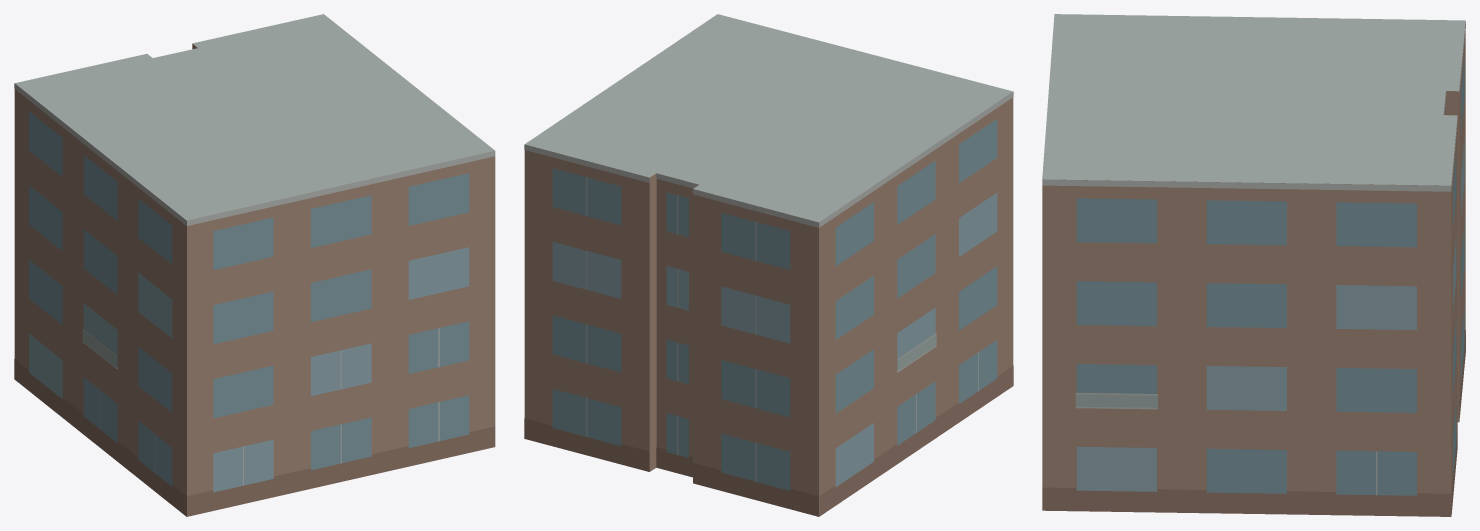
File: survey-upis-32655670.glb
The picture shows the model from 3 angles, left to right: view 1: azimuth 30°, elevation 25°; view 2: azimuth 150°, elevation 25°; view 3: azimuth 270°, elevation 25°; orthographic projection. The views are drawn at different scales.
Parts seen in each view (by area): view 1: survey-upis-32655670.tmp; view 2: survey-upis-32655670.tmp; view 3: survey-upis-32655670.tmp.
Part boxes in pixels (x1,y1,x2,y2): survey-upis-32655670.tmp: [14, 14, 495, 516]; survey-upis-32655670.tmp: [524, 14, 1013, 516]; survey-upis-32655670.tmp: [1042, 14, 1465, 516].
Bounding box in the file's own units: 14.62 × 13.15 × 15.25.
